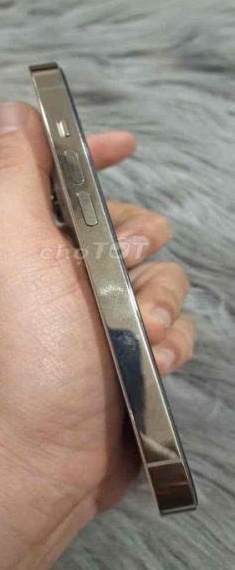scratch: (86, 270, 156, 367)
